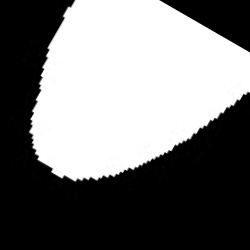spot: (29, 2, 248, 181)
